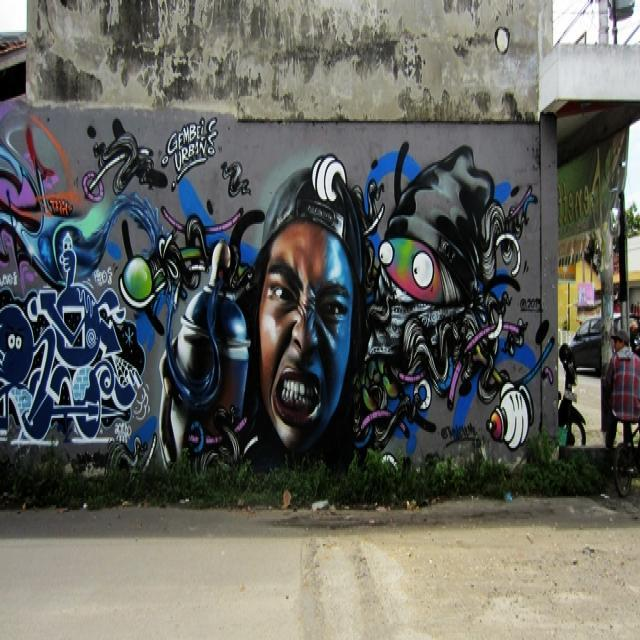-: (0, 117, 556, 468)
